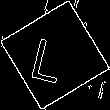L_N: (34, 27, 76, 83)
